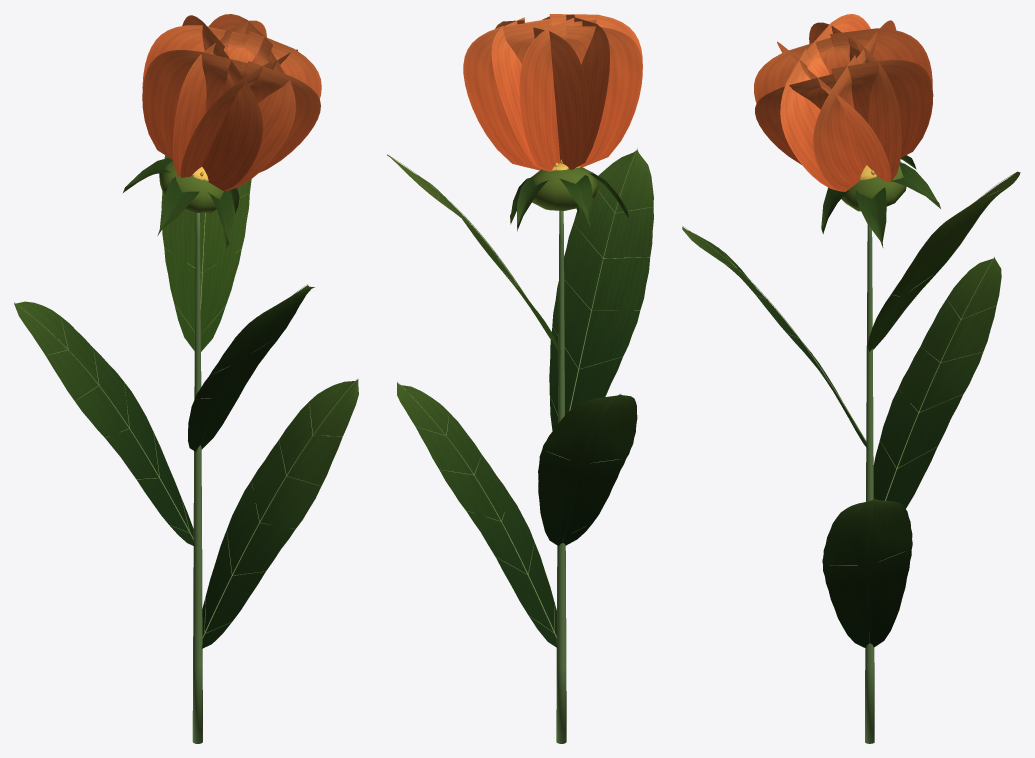
The model's file is tulip-09.glb.
3 renders of one model, left to right at view 1: azimuth 30°, elevation 25°; view 2: azimuth 150°, elevation 25°; view 3: azimuth 270°, elevation 25°, orthographic.
Visible parts, largest first — view 1: tulip_stage_09_leaf_veins.016, tulip_stage_09_tulip_petal.016, tulip_stage_09_young_leaf.016, tulip_stage_09_stem_fibres.016, tulip_stage_09_raised_midveins.016; view 2: tulip_stage_09_leaf_veins.016, tulip_stage_09_tulip_petal.016, tulip_stage_09_stem_fibres.016, tulip_stage_09_young_leaf.016, tulip_stage_09_raised_midveins.016; view 3: tulip_stage_09_leaf_veins.016, tulip_stage_09_tulip_petal.016, tulip_stage_09_young_leaf.016, tulip_stage_09_stem_fibres.016, tulip_stage_09_raised_midveins.016.
Boxes of the visible parts, x1=… form: tulip_stage_09_leaf_veins.016: x1=14, y1=157, x2=358, y2=648; tulip_stage_09_tulip_petal.016: x1=142, y1=14, x2=321, y2=190; tulip_stage_09_young_leaf.016: x1=159, y1=155, x2=251, y2=351; tulip_stage_09_stem_fibres.016: x1=192, y1=213, x2=202, y2=743; tulip_stage_09_raised_midveins.016: x1=14, y1=193, x2=357, y2=638; tulip_stage_09_leaf_veins.016: x1=397, y1=149, x2=653, y2=647; tulip_stage_09_tulip_petal.016: x1=463, y1=14, x2=642, y2=171; tulip_stage_09_stem_fibres.016: x1=556, y1=210, x2=566, y2=743; tulip_stage_09_young_leaf.016: x1=387, y1=154, x2=599, y2=353; tulip_stage_09_raised_midveins.016: x1=387, y1=148, x2=652, y2=638; tulip_stage_09_leaf_veins.016: x1=682, y1=155, x2=1001, y2=648; tulip_stage_09_tulip_petal.016: x1=754, y1=14, x2=933, y2=191; tulip_stage_09_young_leaf.016: x1=841, y1=161, x2=1020, y2=351; tulip_stage_09_stem_fibres.016: x1=865, y1=224, x2=874, y2=743; tulip_stage_09_raised_midveins.016: x1=683, y1=173, x2=1014, y2=642.
Bounding box in the file's own units: 0.2543 × 0.6056 × 0.2585.
Materials: 6 (3 with a texture image).
